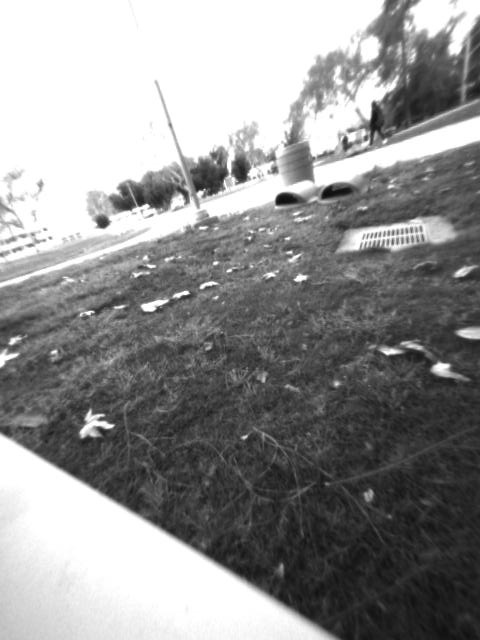trashcan: (277, 140, 315, 186)
